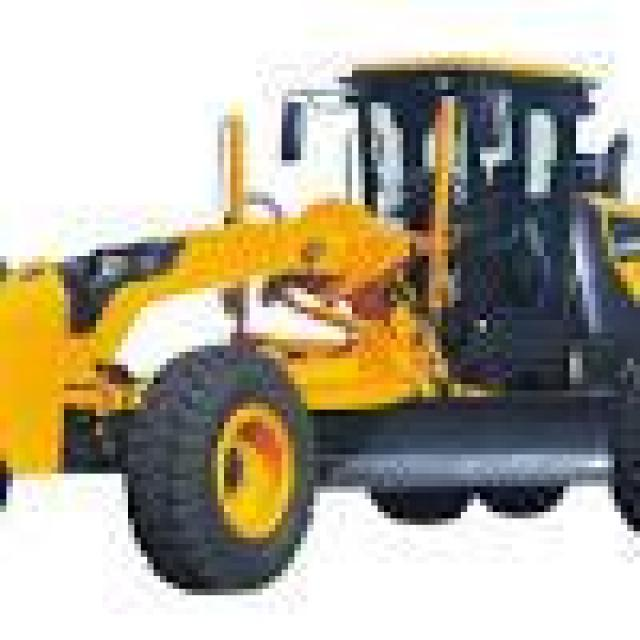Grader: (6, 51, 634, 634)
